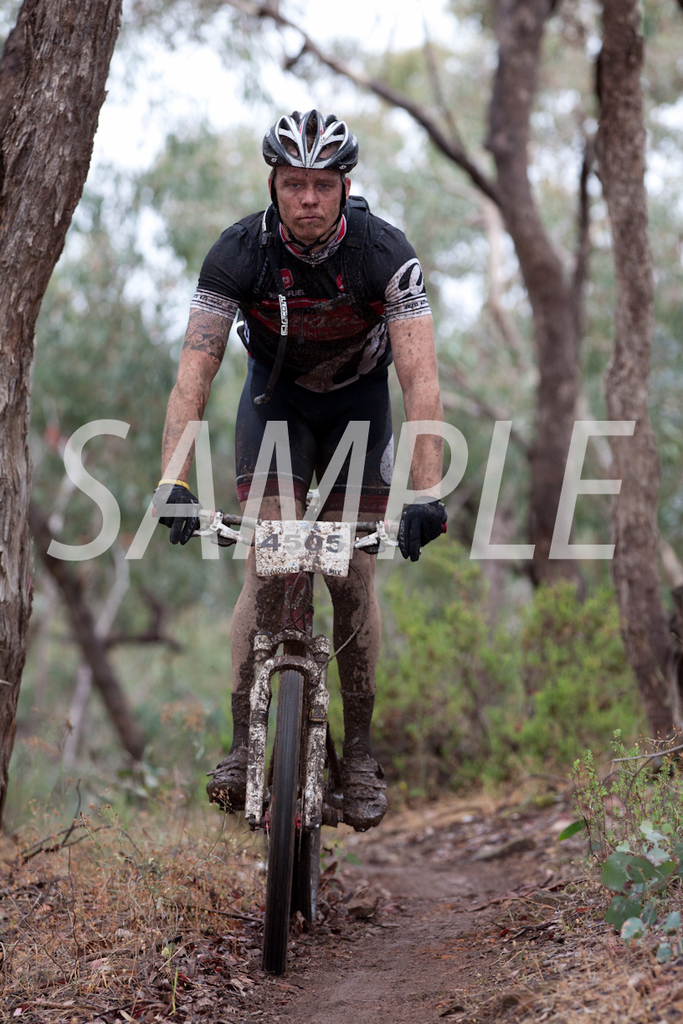Bike_toward: (149, 485, 452, 972)
